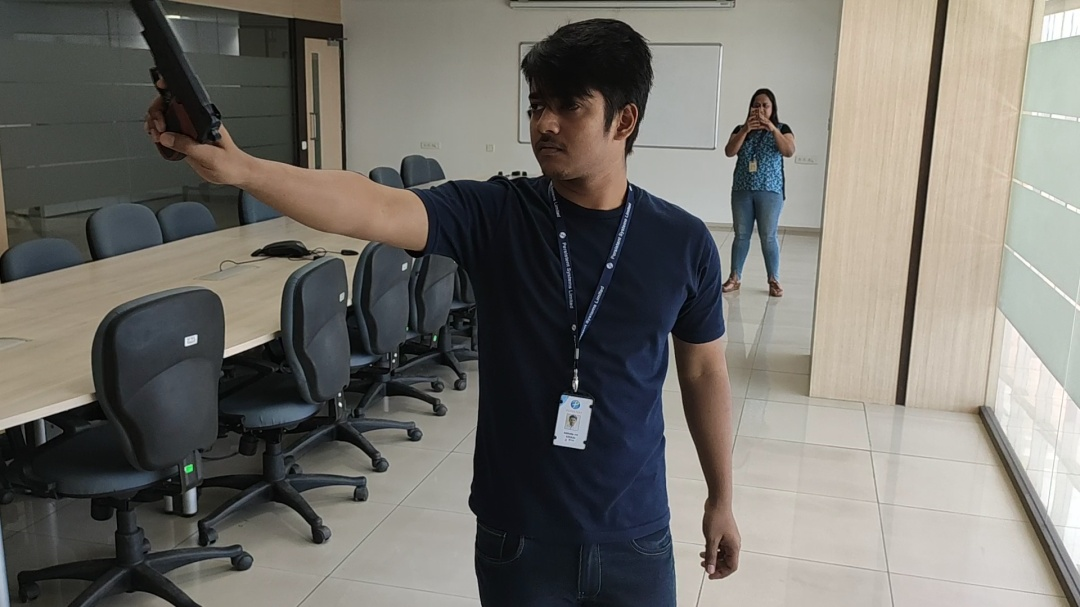gun: (120, 3, 237, 132)
